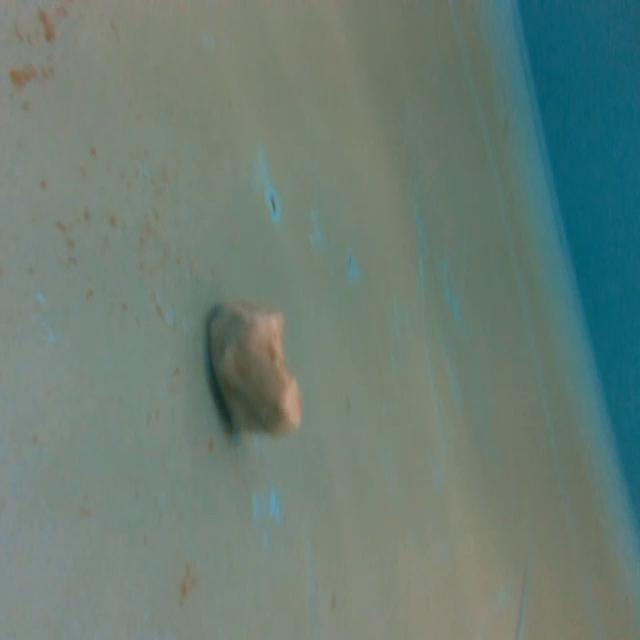rock: (201, 292, 308, 444)
